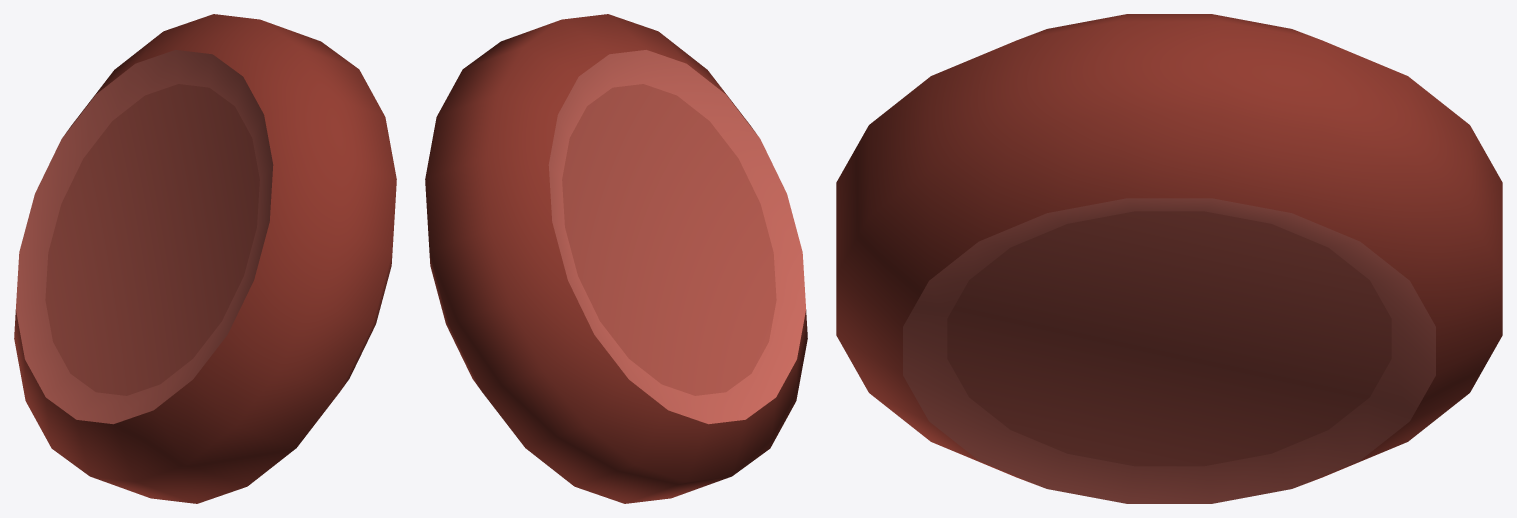
The model's file is tyrian10-26-f2.glb.
3 views of the same model, side by side, from view 1: azimuth 30°, elevation 25°; view 2: azimuth 150°, elevation 25°; view 3: azimuth 270°, elevation 25° (orthographic). The views are drawn at different scales.
Visible parts, largest first — view 1: tyrian10-26-f2; view 2: tyrian10-26-f2; view 3: tyrian10-26-f2.
Part boxes in pixels (x1,y1,x2,y2): tyrian10-26-f2: (14,14,396,503); tyrian10-26-f2: (425,14,807,503); tyrian10-26-f2: (836,14,1502,503).
Size of the model in its own units: 0.5128 by 0.704 by 0.7408.
